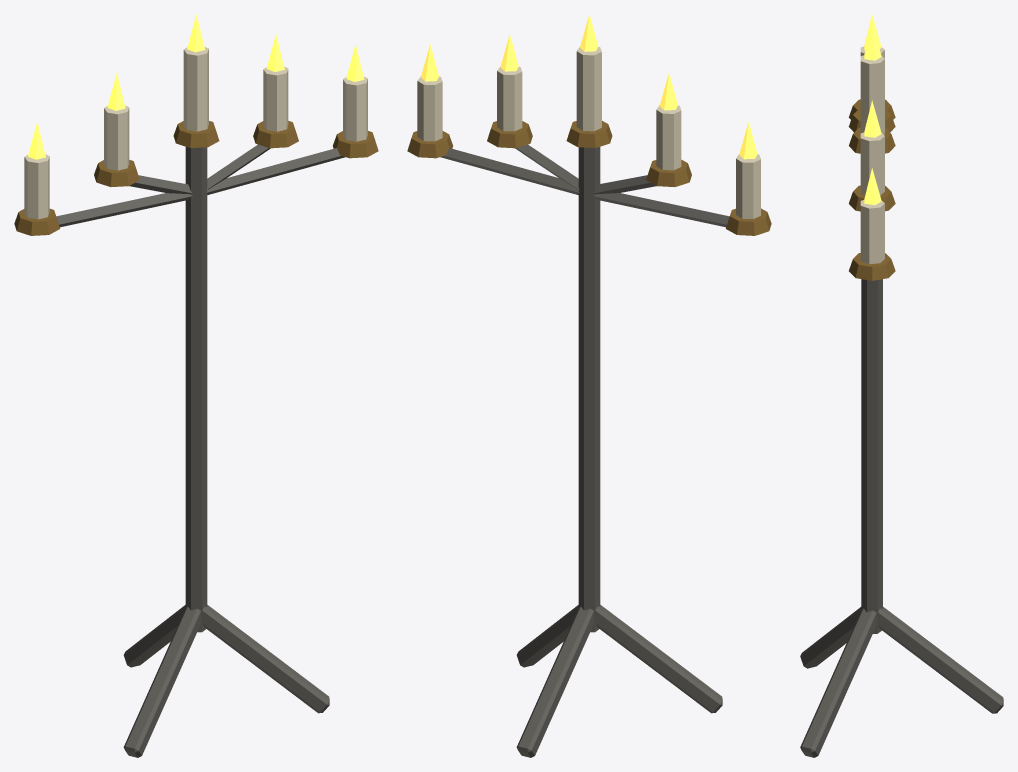
File: candelabrum_2.glb
3 renders of one model, left to right at view 1: azimuth 30°, elevation 25°; view 2: azimuth 150°, elevation 25°; view 3: azimuth 270°, elevation 25°, orthographic.
Visible parts, largest first — view 1: Candelabrum_2; view 2: Candelabrum_2; view 3: Candelabrum_2.
Part boxes in pixels (x1,y1,x2,y2): Candelabrum_2: (14, 14, 378, 757); Candelabrum_2: (407, 14, 771, 757); Candelabrum_2: (800, 14, 1003, 757).
Bounding box in the file's own units: 0.768 × 1.42 × 0.3812.
